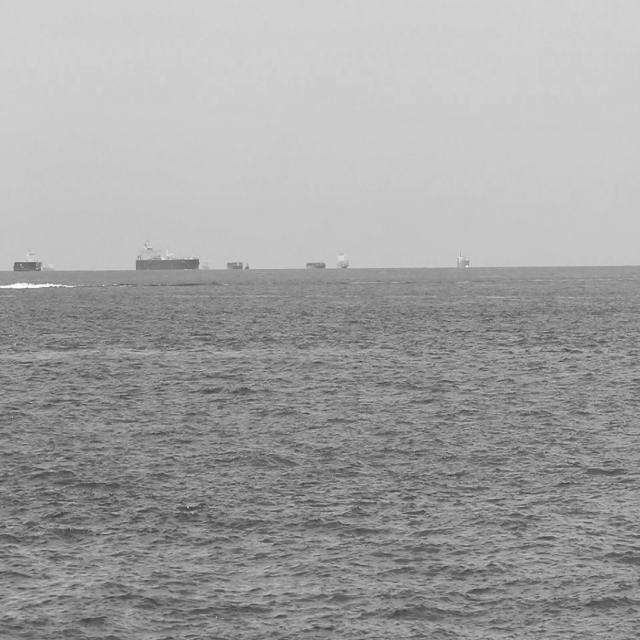ship: (135, 238, 200, 272), (11, 247, 43, 271), (455, 248, 470, 269), (335, 248, 349, 268), (305, 256, 325, 268), (43, 259, 59, 271), (226, 258, 244, 268), (201, 254, 212, 270), (243, 256, 250, 268)
